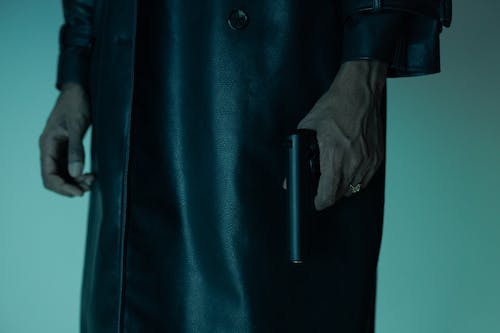gun: (285, 126, 322, 266)
